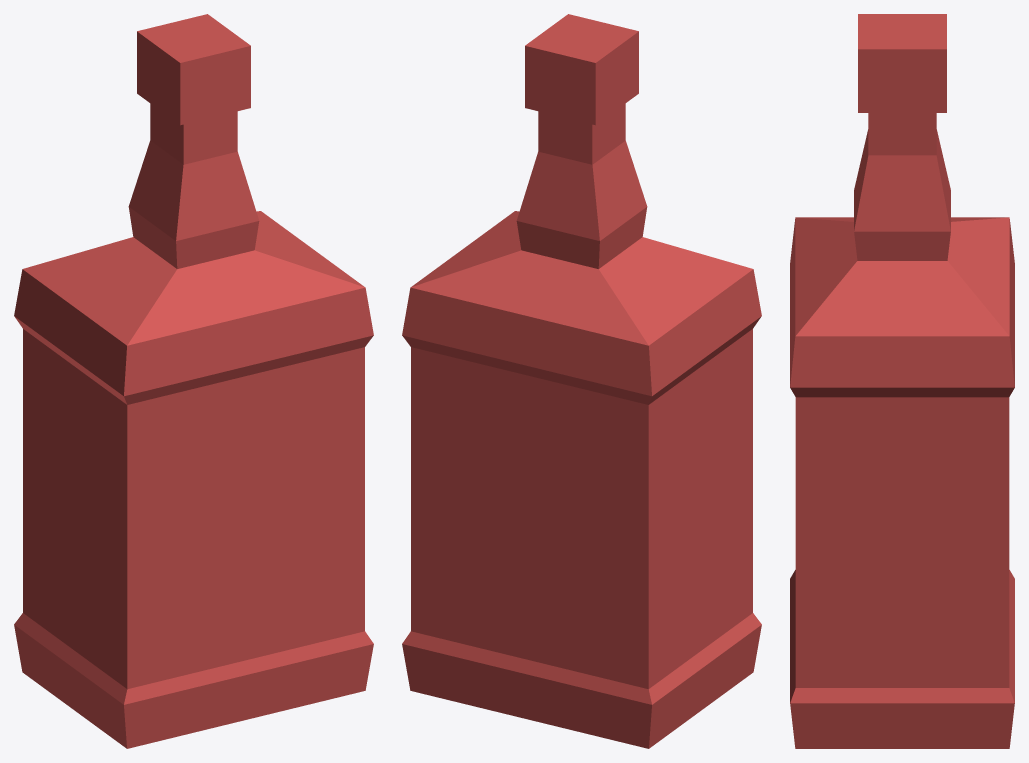
Rendered from entity21216.gltf.
3 renders of one model, left to right at view 1: azimuth 30°, elevation 25°; view 2: azimuth 150°, elevation 25°; view 3: azimuth 270°, elevation 25°, orthographic. The views are drawn at different scales.
Parts seen in each view (by area): view 1: node_whiskey_bottle_1; view 2: node_whiskey_bottle_1; view 3: node_whiskey_bottle_1.
Part boxes in pixels (bbox=[...]): node_whiskey_bottle_1: bbox=[14, 14, 373, 748]; node_whiskey_bottle_1: bbox=[402, 14, 761, 748]; node_whiskey_bottle_1: bbox=[790, 14, 1014, 748].
Bounding box in the file's own units: 0.1029 × 0.2527 × 0.0783.
